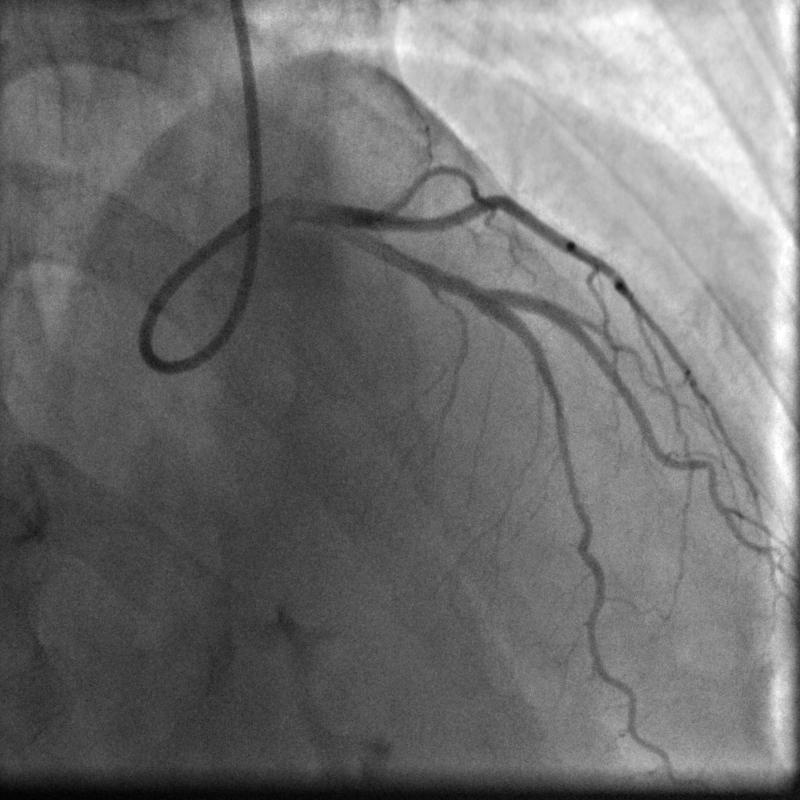Stenosis: (451, 269, 483, 313)
